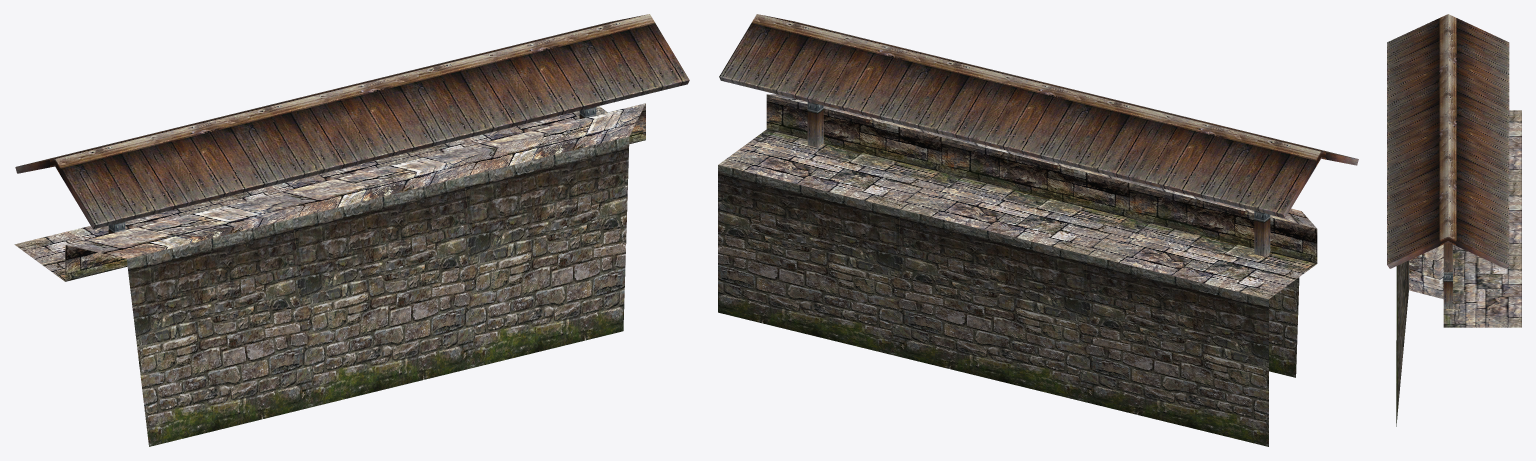
File: m_wall6.glb
3 renders of one model, left to right at view 1: azimuth 30°, elevation 25°; view 2: azimuth 150°, elevation 25°; view 3: azimuth 270°, elevation 25°, orthographic. The views are drawn at different scales.
Visible parts, largest first — view 1: m_wall6-col; view 2: m_wall6-col; view 3: m_wall6-col.
Boxes of the visible parts, x1=… form: m_wall6-col: x1=14, y1=14, x2=689, y2=446; m_wall6-col: x1=718, y1=14, x2=1358, y2=446; m_wall6-col: x1=1387, y1=14, x2=1521, y2=426.
Bounding box in the file's own units: 16.8 × 7.5 × 4.3.
6 materials, 6 textured.
